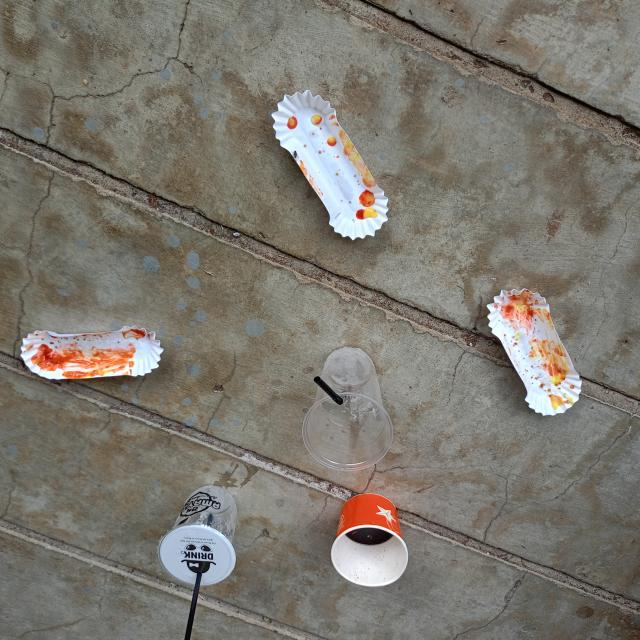recyclable waste: (264, 81, 395, 247), (478, 280, 588, 424), (294, 341, 399, 476), (11, 318, 173, 388), (152, 478, 248, 594), (324, 484, 414, 594)
